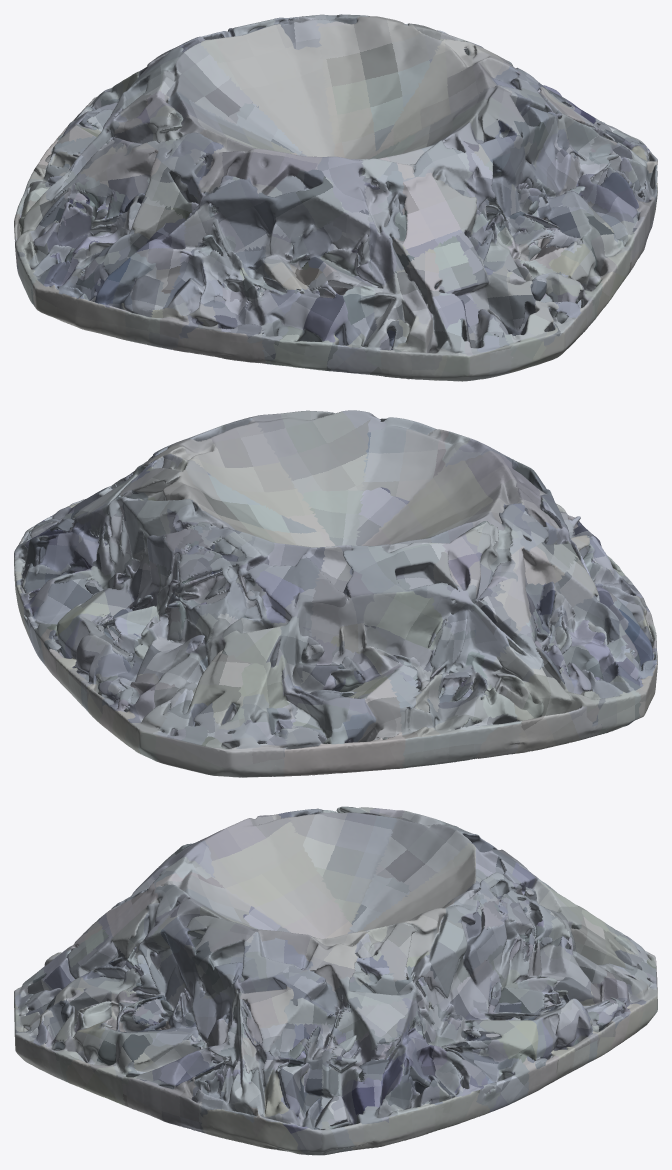
The model's file is cushion-crown.glb.
3 renders of one model, top to bottom at view 1: azimuth 30°, elevation 25°; view 2: azimuth 150°, elevation 25°; view 3: azimuth 270°, elevation 25°, orthographic. The views are drawn at different scales.
Parts seen in each view (by area): view 1: tripo_node_27a697a8-4250-49b3-9b13-fe29861856c6; view 2: tripo_node_27a697a8-4250-49b3-9b13-fe29861856c6; view 3: tripo_node_27a697a8-4250-49b3-9b13-fe29861856c6.
Part boxes in pixels (box(x1,y1,x2,y2)): tripo_node_27a697a8-4250-49b3-9b13-fe29861856c6: box(14, 14, 657, 381); tripo_node_27a697a8-4250-49b3-9b13-fe29861856c6: box(14, 410, 657, 777); tripo_node_27a697a8-4250-49b3-9b13-fe29861856c6: box(14, 806, 657, 1155).
Size of the model in its own units: 1 by 0.2816 by 0.982.
Materials: 1 (1 with a texture image).
